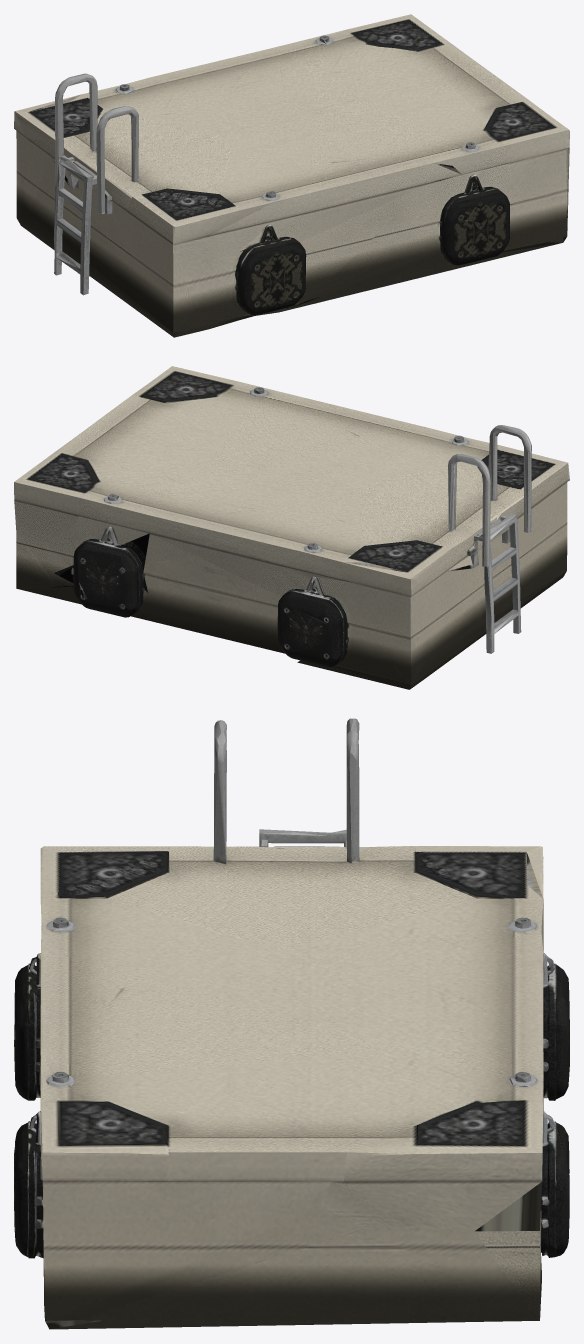
Rendered from bermuda-dock.glb.
3 renders of one model, top to bottom at view 1: azimuth 30°, elevation 25°; view 2: azimuth 150°, elevation 25°; view 3: azimuth 270°, elevation 25°, orthographic. The views are drawn at different scales.
Visible parts, largest first — view 1: output_unwrapped; view 2: output_unwrapped; view 3: output_unwrapped.
Boxes of the visible parts, <box> form: output_unwrapped: <box>14,14,569,337</box>; output_unwrapped: <box>14,366,569,689</box>; output_unwrapped: <box>14,718,569,1329</box>.
Size of the model in its own units: 1.9 by 0.8342 by 1.38.
Materials: 1 (1 with a texture image).
